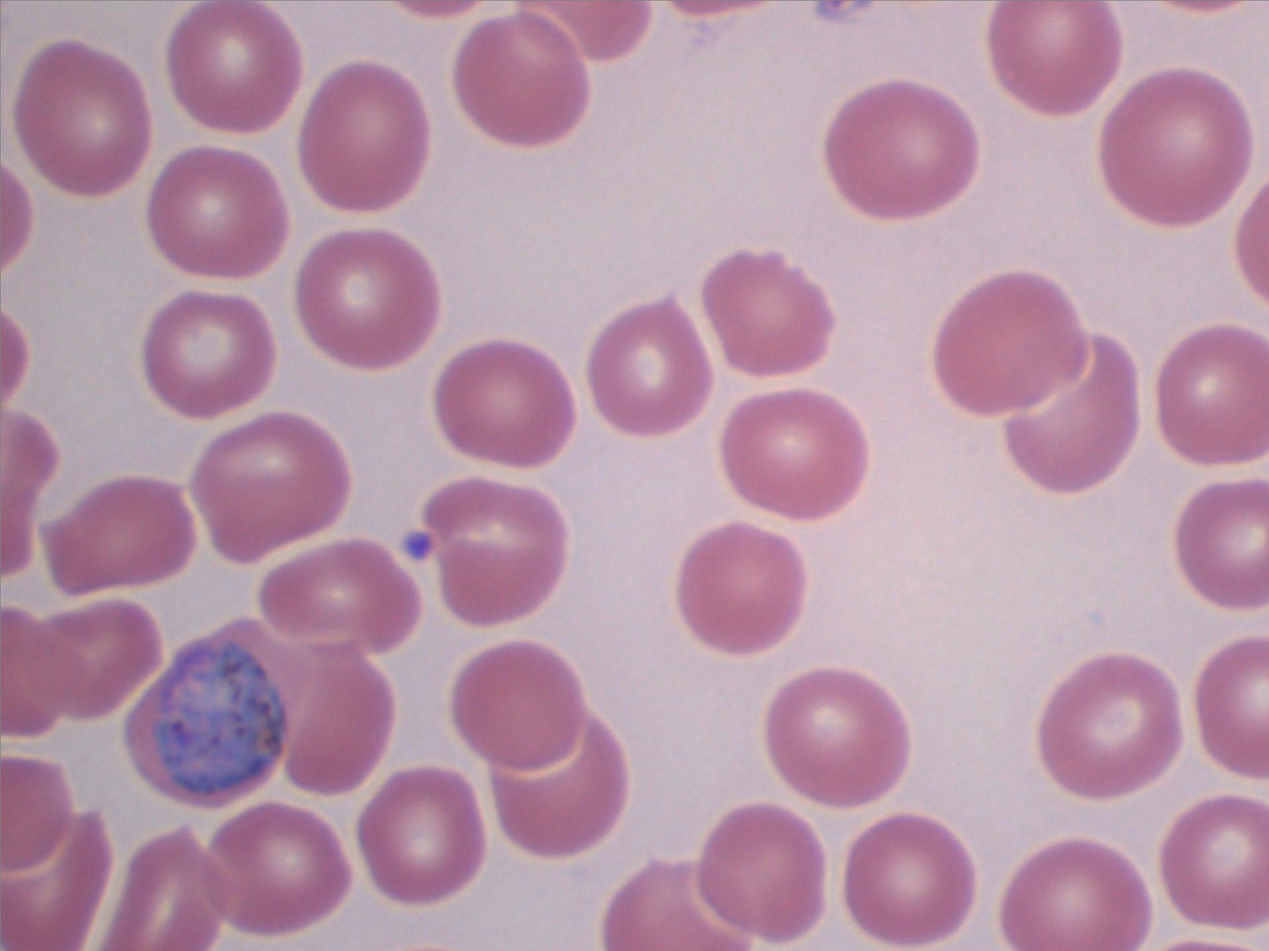Infected: (124, 628, 300, 812)
Uninfected: (1095, 71, 1250, 230), (192, 411, 344, 558), (935, 273, 1088, 414), (824, 82, 977, 221), (422, 478, 566, 623), (15, 41, 151, 192), (5, 597, 156, 729), (1006, 338, 1137, 489), (1038, 656, 1178, 796), (766, 669, 907, 806), (298, 65, 432, 209), (296, 230, 436, 367), (720, 389, 864, 518), (453, 15, 590, 150), (491, 718, 625, 855), (149, 149, 286, 280), (260, 539, 416, 654), (210, 802, 346, 932), (453, 644, 590, 773), (48, 478, 194, 598), (435, 340, 572, 467), (137, 289, 275, 415), (168, 1, 301, 129), (701, 806, 827, 940), (703, 247, 833, 373), (845, 816, 975, 942), (360, 771, 484, 902), (590, 299, 712, 431), (678, 525, 804, 652), (1153, 326, 1268, 461), (281, 653, 391, 792), (986, 0, 1121, 112), (1001, 844, 1145, 947), (101, 835, 221, 949), (1163, 798, 1268, 923), (1174, 479, 1269, 605), (605, 866, 738, 947), (1198, 640, 1269, 777)
